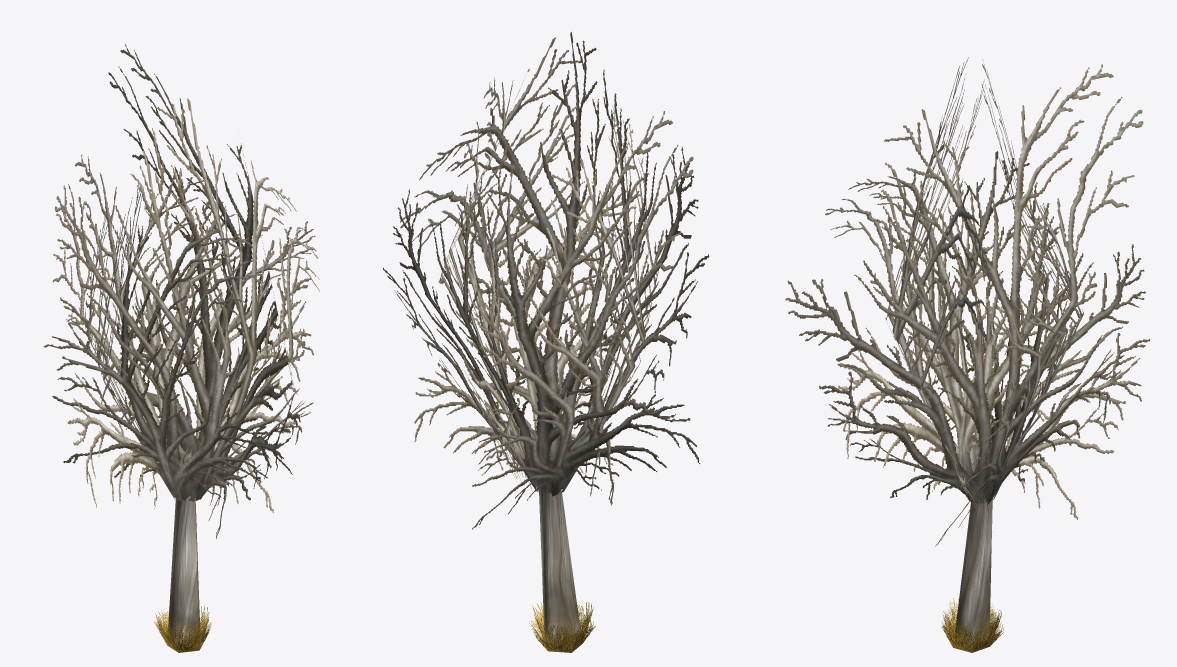
The model's file is westfalltree02.obj.
3 views of the same model, side by side, from view 1: azimuth 30°, elevation 25°; view 2: azimuth 150°, elevation 25°; view 3: azimuth 270°, elevation 25° (orthographic). The views are drawn at different scales.
Visible parts, largest first — view 1: Geoset0, Geoset1, Geoset2; view 2: Geoset0, Geoset1, Geoset2; view 3: Geoset0, Geoset1, Geoset2.
Part boxes in pixels (box(x1,y1,x2,y2)): Geoset0: box(43, 44, 319, 538); Geoset1: box(167, 495, 200, 652); Geoset2: box(154, 606, 211, 652); Geoset0: box(383, 32, 709, 529); Geoset1: box(539, 460, 581, 652); Geoset2: box(529, 602, 595, 652); Geoset0: box(785, 57, 1149, 546); Geoset1: box(954, 499, 992, 652); Geoset2: box(941, 598, 1003, 652).
Bounding box in the file's own units: 11.47 × 21.41 × 13.46.
3 materials, 3 textured.
